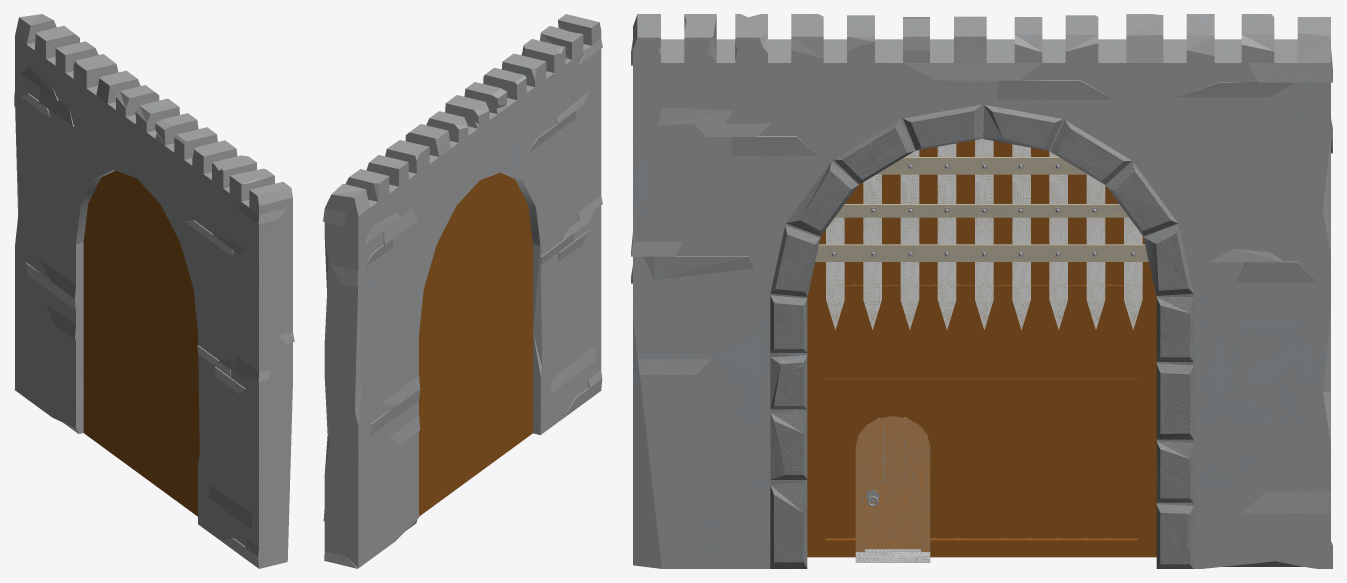
The model's file is Gats.fbx.
The picture shows the model from 3 angles, left to right: view 1: azimuth 30°, elevation 25°; view 2: azimuth 150°, elevation 25°; view 3: azimuth 270°, elevation 25°; orthographic projection. The views are drawn at different scales.
Parts seen in each view (by area): view 1: Group2, Group9, Group12; view 2: Group2, Group12, Group9; view 3: Group2, Group9, Group12, Group4, Group5, Door1, Group6, Group8, Group7, Porog1.
Boxes of the visible parts, x1=… form: Group2: x1=14, y1=14, x2=294, y2=568; Group9: x1=83, y1=170, x2=144, y2=477; Group12: x1=144, y1=187, x2=199, y2=516; Group2: x1=323, y1=14, x2=602, y2=568; Group12: x1=472, y1=172, x2=532, y2=477; Group9: x1=419, y1=189, x2=472, y2=516; Group2: x1=631, y1=14, x2=1332, y2=568; Group9: x1=982, y1=141, x2=1156, y2=557; Group12: x1=807, y1=140, x2=981, y2=557; Group4: x1=770, y1=104, x2=1193, y2=568; Group5: x1=826, y1=139, x2=1142, y2=329; Door1: x1=855, y1=416, x2=930, y2=551; Group6: x1=815, y1=244, x2=1148, y2=261; Group8: x1=835, y1=204, x2=1128, y2=217; Group7: x1=876, y1=157, x2=1087, y2=174; Porog1: x1=855, y1=549, x2=930, y2=562.
Size of the model in its own units: 675 by 6300 by 7540.
